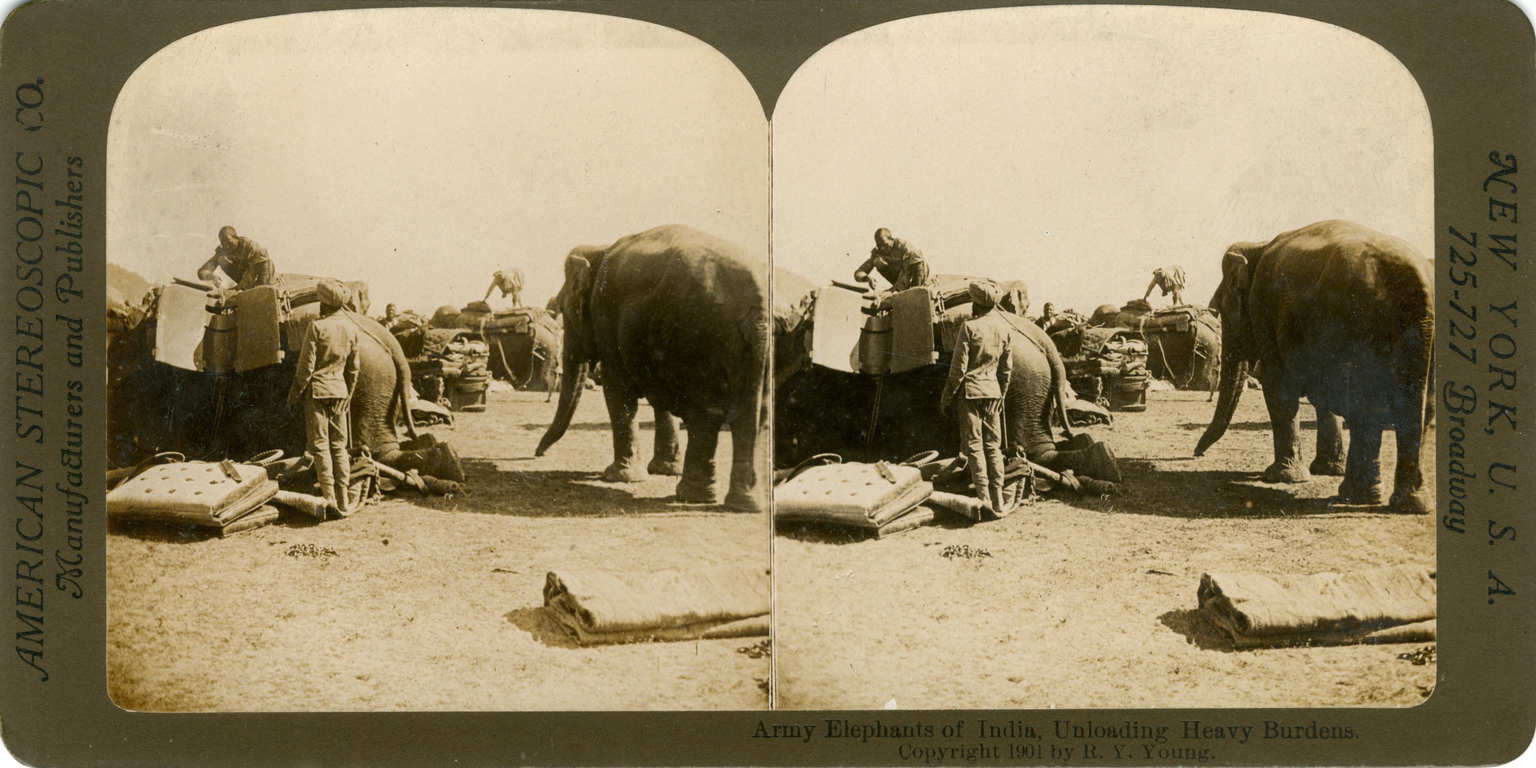half_image: (772, 4, 1438, 711), (106, 6, 768, 714)
